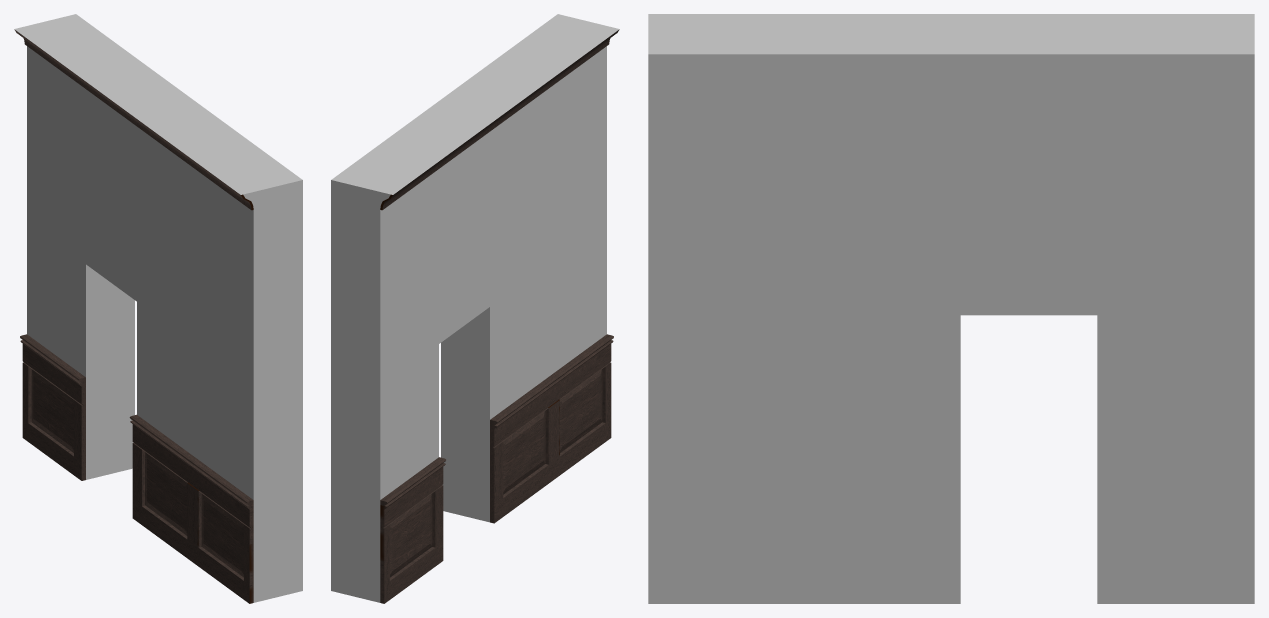
File: wall-panelling-door-left.fbx
3 views of the same model, side by side, from view 1: azimuth 30°, elevation 25°; view 2: azimuth 150°, elevation 25°; view 3: azimuth 270°, elevation 25° (orthographic). The views are drawn at different scales.
Visible parts, largest first — view 1: wall-panelling-door-left; view 2: wall-panelling-door-left; view 3: wall-panelling-door-left.
Part boxes in pixels (left/top/right/bottom): wall-panelling-door-left: left=14, top=14, right=302, bottom=603; wall-panelling-door-left: left=331, top=14, right=619, bottom=603; wall-panelling-door-left: left=648, top=14, right=1254, bottom=603.
Bounding box in the file's own units: 63.08 × 400 × 400.
